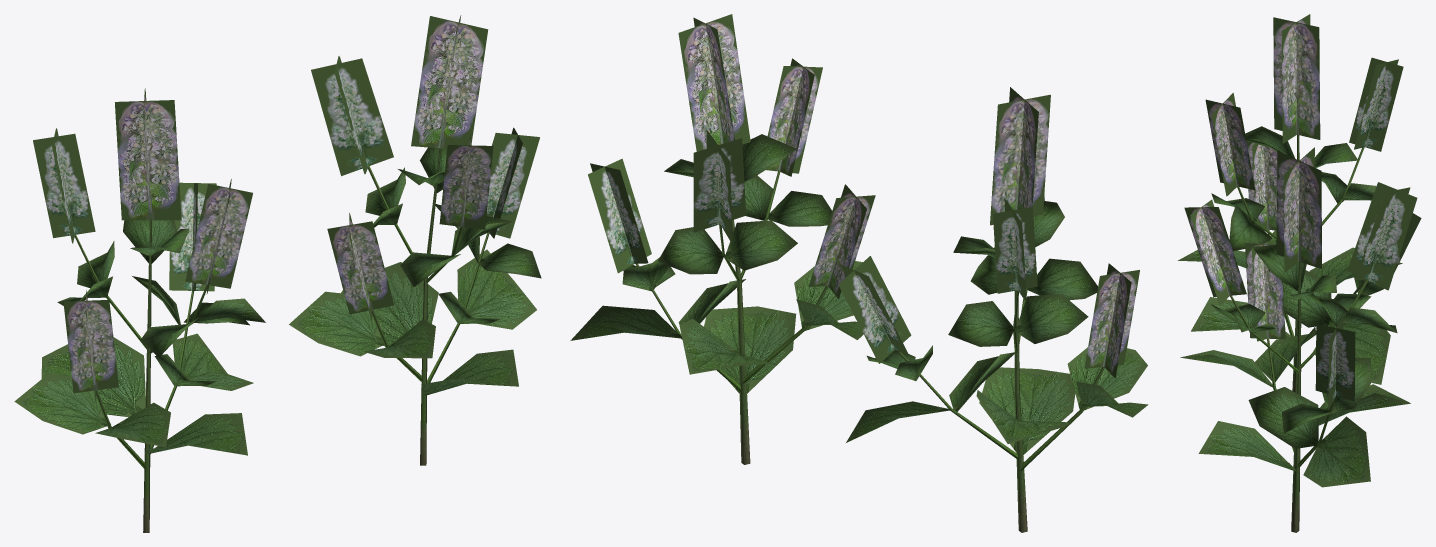
Rendered from Nepeta cataria_m.FBX.
3 renders of one model, left to right at view 1: azimuth 30°, elevation 25°; view 2: azimuth 150°, elevation 25°; view 3: azimuth 270°, elevation 25°, orthographic. The views are drawn at different scales.
Visible parts, largest first — view 1: Nepeta cataria_002, Nepeta cataria_1; view 2: Nepeta cataria_002, Nepeta cataria_1; view 3: Nepeta cataria_002, Nepeta cataria_1.
Boxes of the visible parts, <box> form: Nepeta cataria_002: <box>289,15,541,465</box>; Nepeta cataria_1: <box>14,88,265,532</box>; Nepeta cataria_002: <box>570,14,875,464</box>; Nepeta cataria_1: <box>838,87,1148,532</box>; Nepeta cataria_002: <box>1180,147,1417,532</box>; Nepeta cataria_1: <box>1178,14,1421,392</box>.
Size of the model in its own units: 145 by 113 by 63.99.
